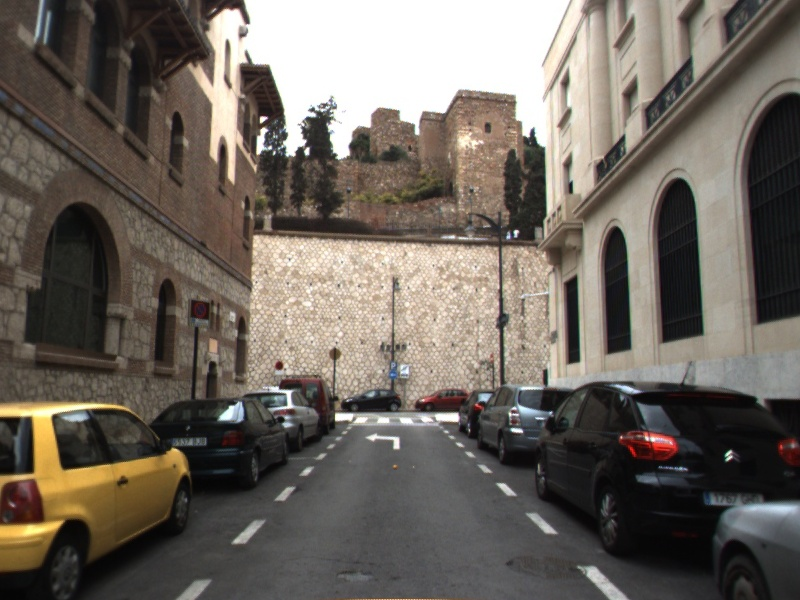LEFT: (363, 431, 402, 451)
